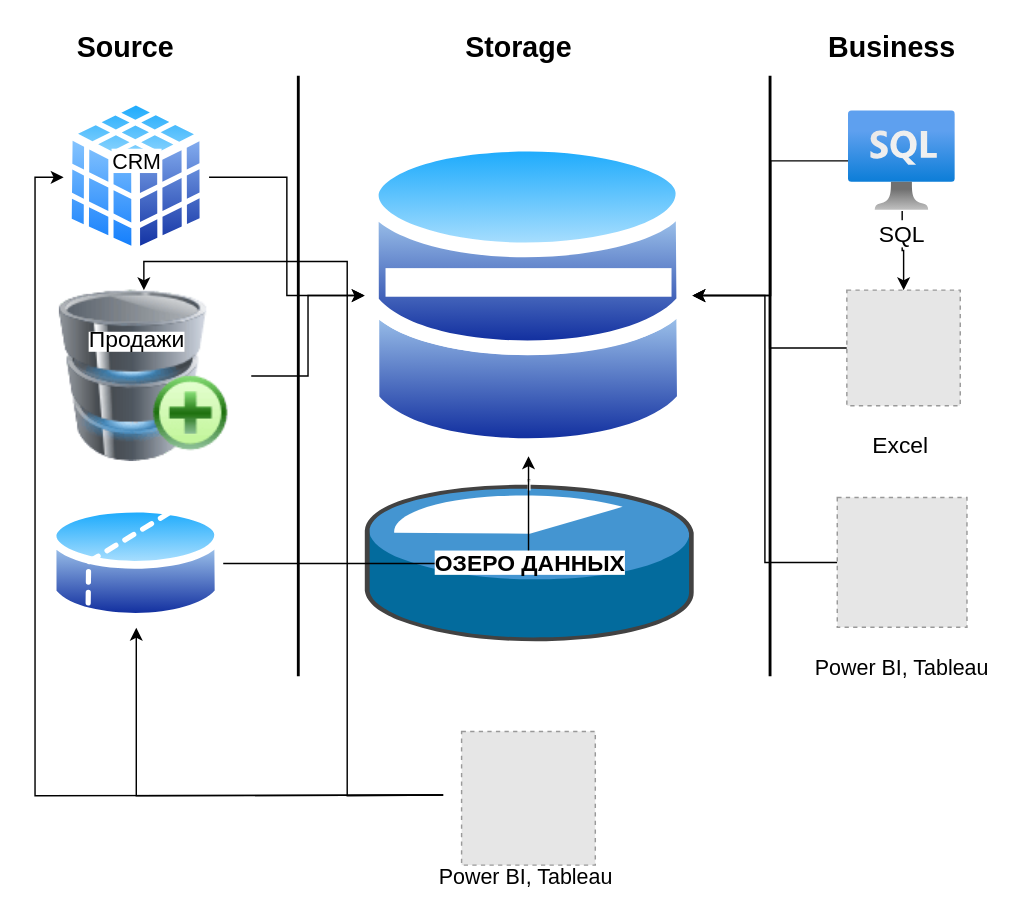
Image size: 1027x914. Some labels were removed from this diagram. Grey dashed boxes stand in for pictures. Here are the shapes that lost their labels. From the top down, the centre of each, then its label:
[528,281]: ХРАНИЛИЩЕ ДАННЫХ
[136,562]: Склад
